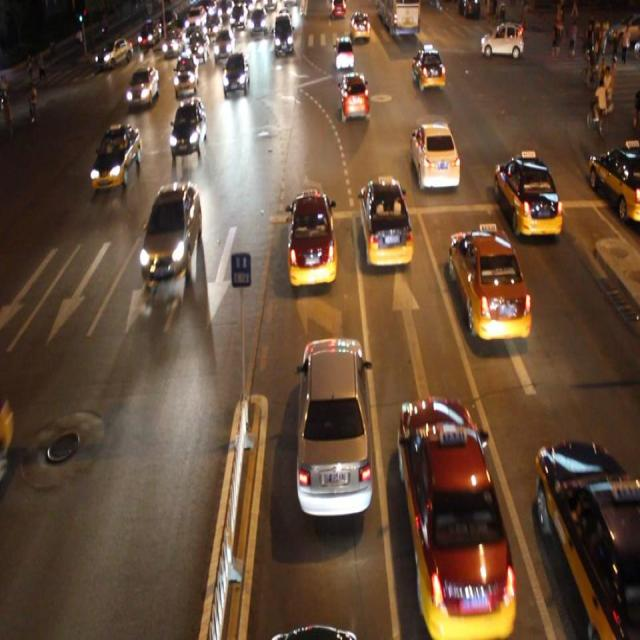car: (397, 396, 516, 627), (532, 437, 640, 639), (296, 333, 373, 519), (447, 223, 531, 342), (138, 183, 202, 283), (494, 150, 561, 240), (357, 177, 412, 269), (286, 188, 336, 288), (586, 137, 640, 223), (411, 121, 458, 191), (92, 126, 140, 192), (269, 616, 357, 640), (170, 98, 204, 158), (338, 71, 370, 121), (412, 46, 445, 91), (124, 66, 159, 108), (222, 55, 250, 96), (172, 52, 197, 94), (334, 35, 354, 70)
